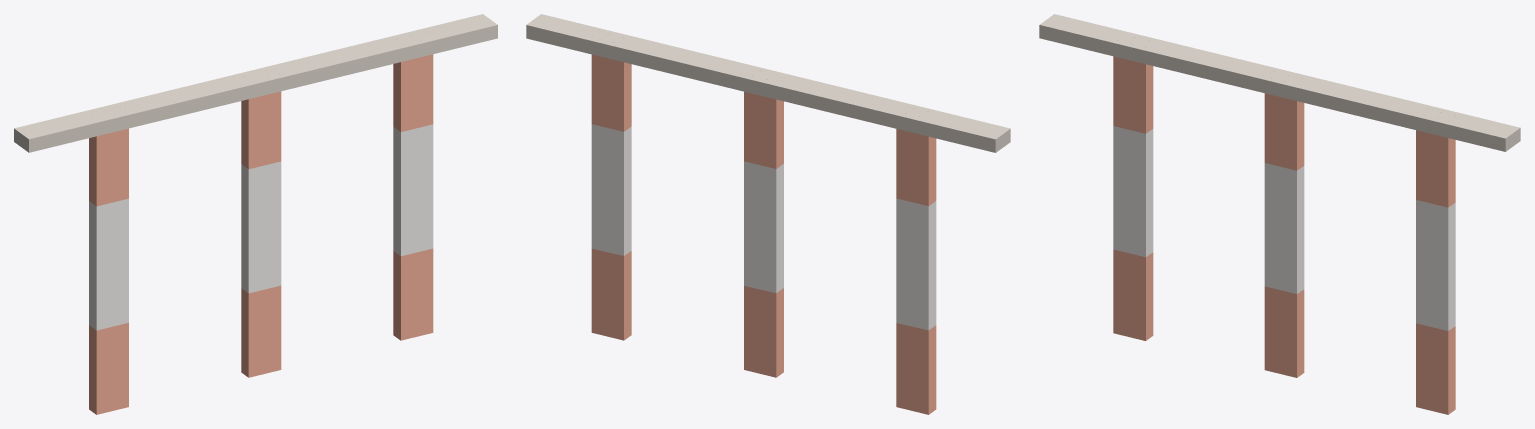
File: props12.fbx
3 views of the same model, side by side, from view 1: azimuth 30°, elevation 25°; view 2: azimuth 150°, elevation 25°; view 3: azimuth 330°, elevation 25° (orthographic).
Parts seen in each view (by area): view 1: Cloner; view 2: Cloner; view 3: Cloner.
Boxes of the visible parts, x1=… form: Cloner: x1=14, y1=14, x2=497, y2=414; Cloner: x1=526, y1=14, x2=1010, y2=414; Cloner: x1=1039, y1=14, x2=1520, y2=414.
Size of the model in its own units: 358 by 216 by 19.79.
